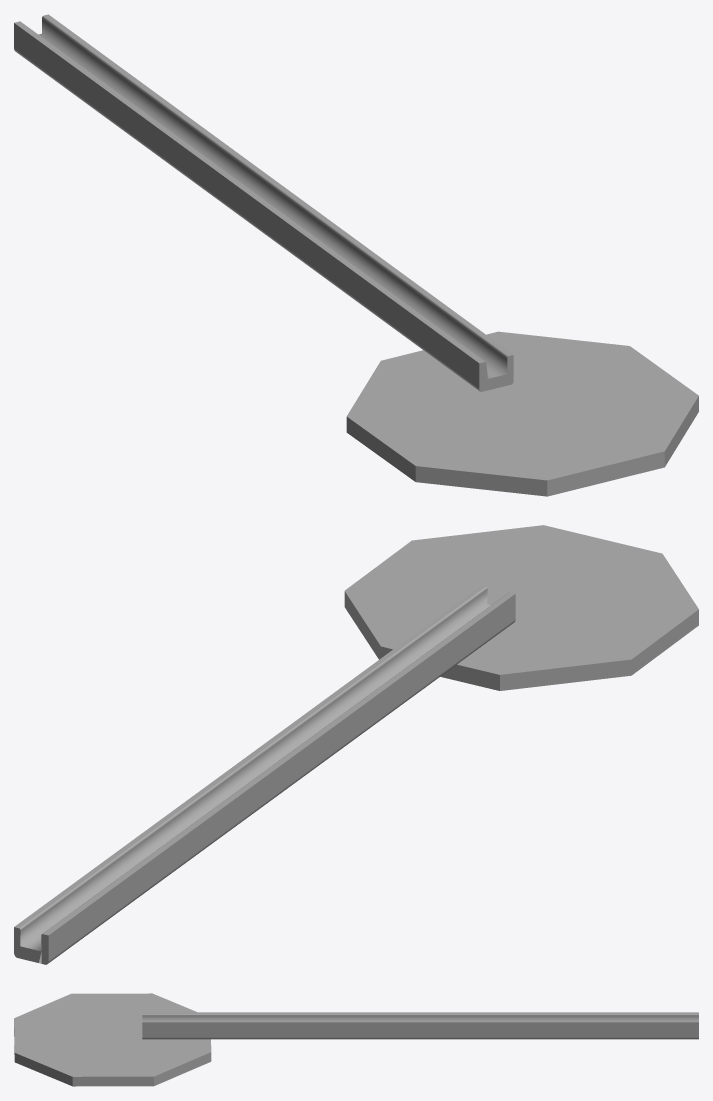
Rendered from StopSign.fbx.
3 renders of one model, top to bottom at view 1: azimuth 30°, elevation 25°; view 2: azimuth 150°, elevation 25°; view 3: azimuth 270°, elevation 25°, orthographic. The views are drawn at different scales.
Visible parts, largest first — view 1: pCylinder15, pCube10; view 2: pCylinder15, pCube10; view 3: pCube10, pCylinder15.
Boxes of the visible parts, x1,y1,x2,y2 form: pCylinder15: (346,331,698,496); pCube10: (14,14,513,391); pCylinder15: (344,525,698,690); pCube10: (14,585,515,964); pCube10: (142,1012,698,1039); pCylinder15: (14,993,211,1086).
Size of the model in its own units: 4.16 by 0.6304 by 14.45.
Materials: 2 (1 with a texture image).
